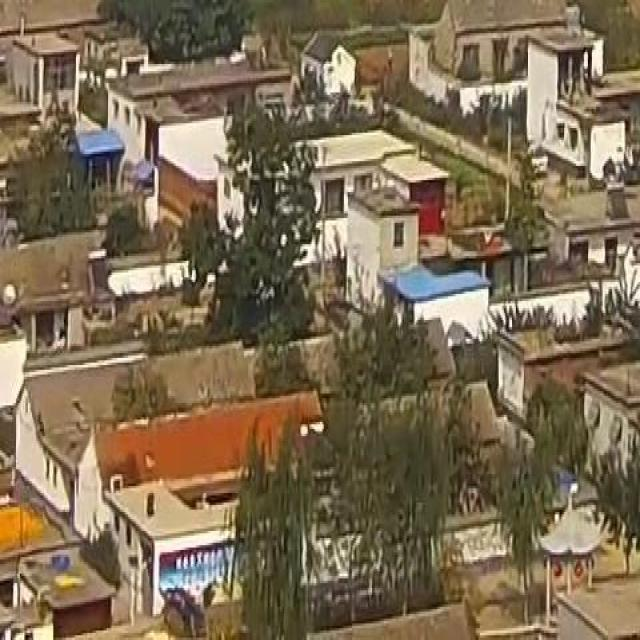other: (85, 407, 328, 458), (410, 173, 450, 231), (0, 494, 47, 538)
